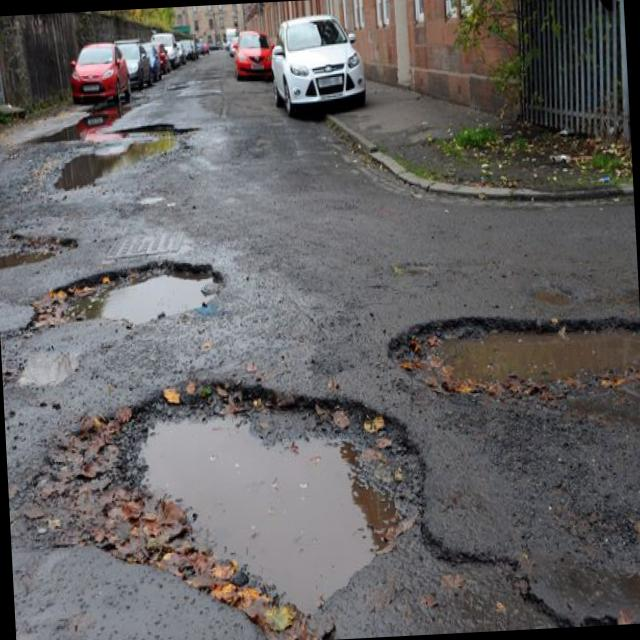Potholes: (18, 361, 437, 640), (376, 277, 640, 462), (6, 257, 236, 340), (40, 90, 182, 202)
